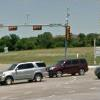Car: (2, 53, 50, 89)
